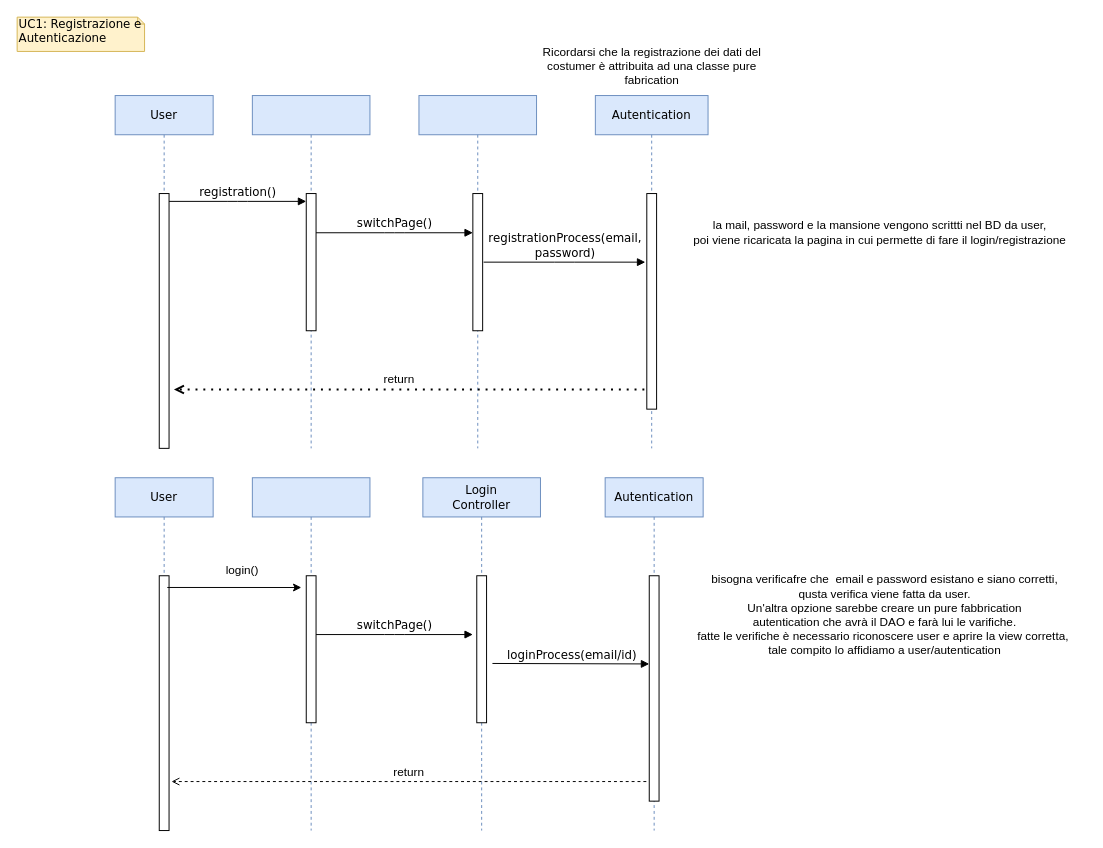
Some shapes in this 1103 by 848 pixel diagram are drawn without their labels. The shapes that lost their labels are listed below. From the top down, each one's box as (x1, y1, x2, y2) in pixels, then its label:
(251, 95, 370, 448): RegistrationView
(418, 95, 537, 448): Registration Controller
(251, 477, 370, 831): LoginView
